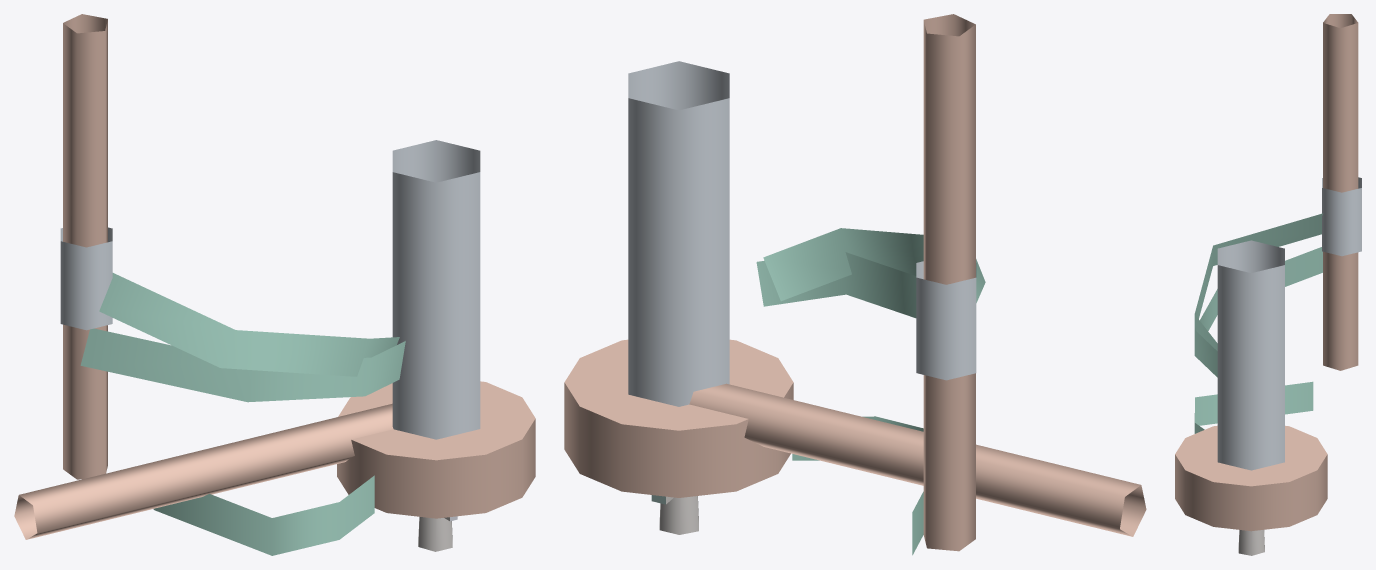
3 views of the same model, side by side, from view 1: azimuth 30°, elevation 25°; view 2: azimuth 150°, elevation 25°; view 3: azimuth 270°, elevation 25° (orthographic). The views are drawn at different scales.
Parts seen in each view (by area): view 1: Object44; view 2: Object44; view 3: Object44.
Part boxes in pixels (<box>): Object44: <box>14,14,535,555</box>; Object44: <box>564,14,1146,555</box>; Object44: <box>1175,14,1361,555</box>.
Bounding box in the file's own units: 45607 × 48941 × 19690.
